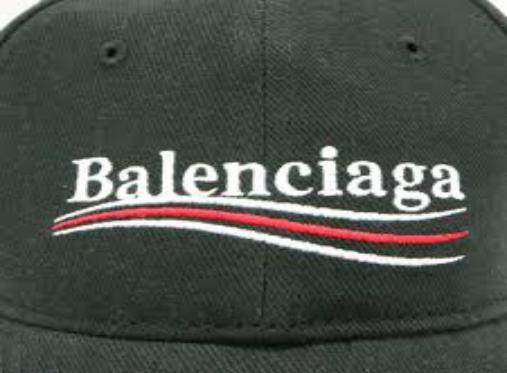BALENCIAGA: (51, 140, 468, 266)
